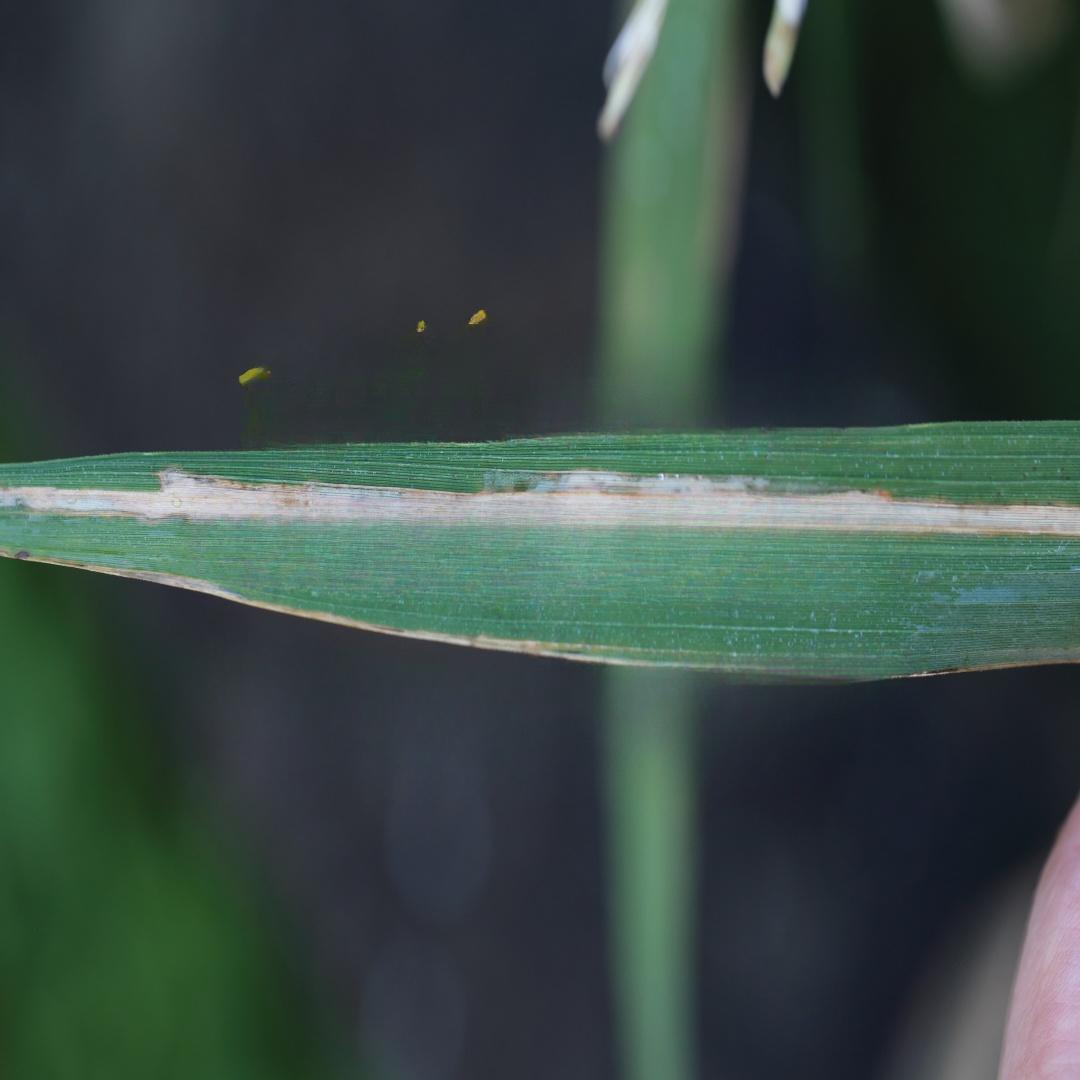BLB: (0, 463, 1079, 537)
LEAF: (0, 421, 1079, 679)
